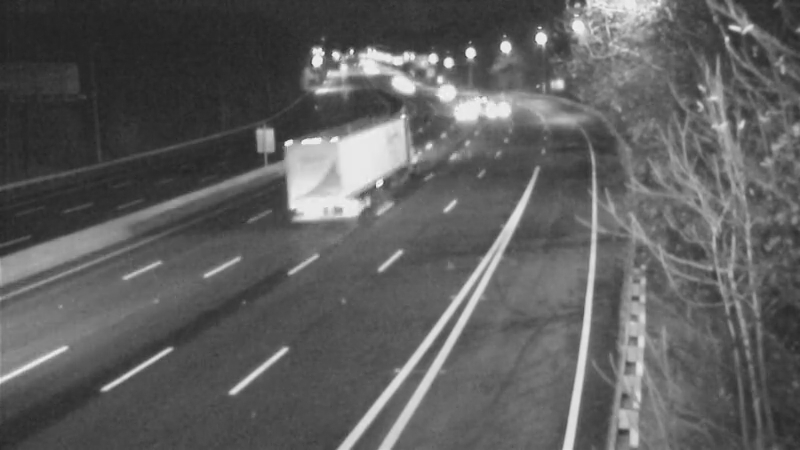vehicle: (277, 132, 357, 212), (367, 59, 417, 109), (382, 65, 432, 115), (419, 69, 469, 119), (456, 75, 506, 125), (467, 85, 517, 135), (440, 80, 490, 130)
